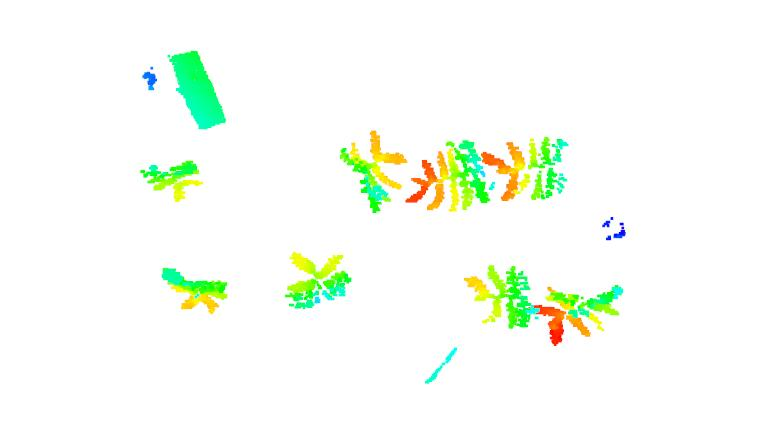chickpea: (527, 281, 627, 347), (479, 132, 571, 203), (403, 138, 487, 214), (336, 129, 410, 214), (281, 248, 352, 313), (462, 264, 532, 328), (157, 265, 229, 314), (139, 157, 204, 202)
